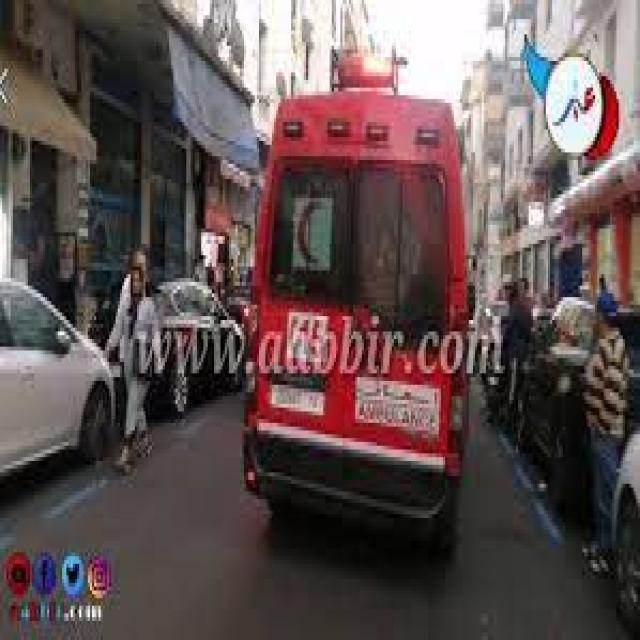ambulance: (248, 44, 465, 514)
